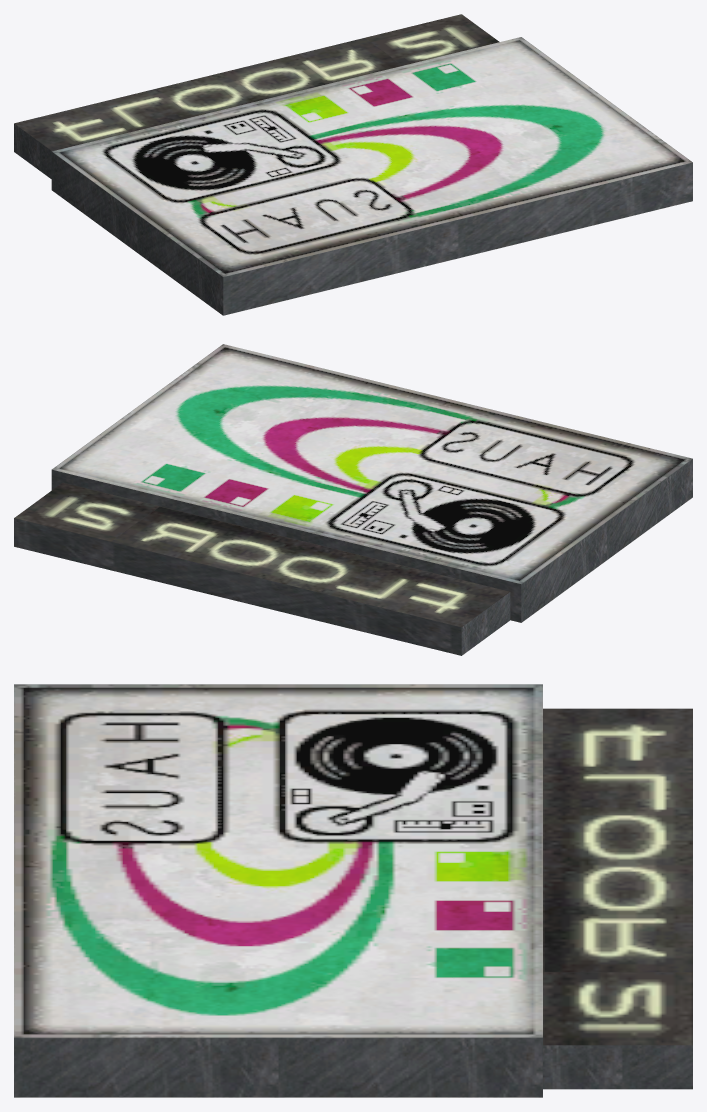
Rendered from haus_floor.fbx.
3 views of the same model, one above another, from view 1: azimuth 30°, elevation 25°; view 2: azimuth 150°, elevation 25°; view 3: azimuth 270°, elevation 25° (orthographic). The views are drawn at different scales.
Visible parts, largest first — view 1: mesh_2, mesh_0, mesh_1; view 2: mesh_2, mesh_0, mesh_1; view 3: mesh_2, mesh_0, mesh_1.
Boxes of the visible parts, x1,y1,x2,y2 form: mesh_2: (51,37,692,315); mesh_0: (14,14,499,151); mesh_1: (14,123,51,178); mesh_2: (51,344,692,622); mesh_0: (14,482,509,627); mesh_1: (14,518,510,655); mesh_2: (14,684,542,1097); mesh_0: (543,708,692,1045); mesh_1: (543,1045,692,1089).
Size of the model in its own units: 172 by 13.56 by 140.
2 materials, 2 textured.
